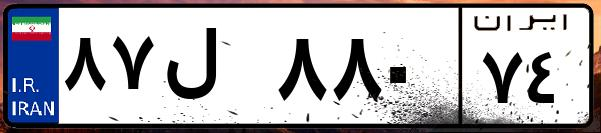0: (385, 28, 445, 110)
4: (525, 38, 570, 115)
7: (475, 38, 525, 113), (110, 28, 158, 98)
8: (270, 28, 330, 110), (330, 28, 385, 110), (57, 26, 110, 100)
ل: (158, 20, 270, 120)
